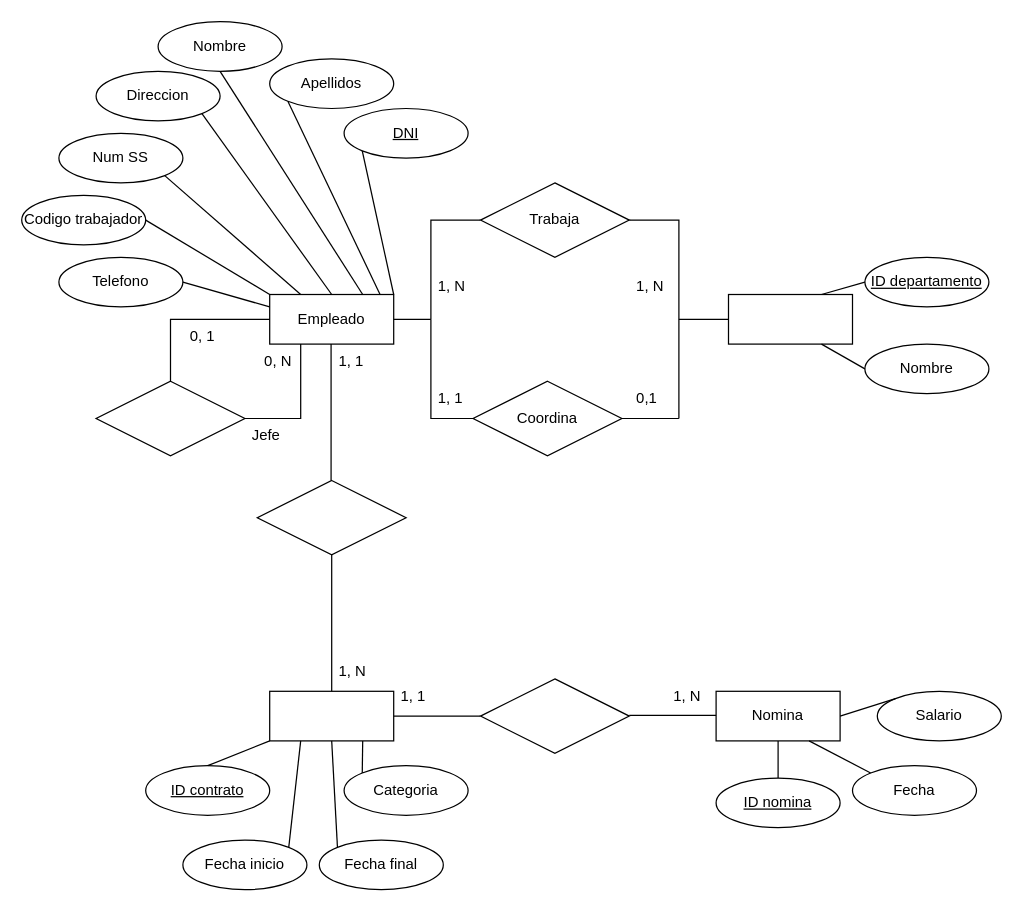
Some shapes in this 1023 by 911 pixel diagram are drawn without their labels. Each missing label, with the box of its shape:
Contrato: (268, 690, 394, 741)
Departamento: (727, 293, 852, 344)
Firma: (256, 479, 406, 555)
Genera: (479, 678, 629, 753)
Responsabiliza: (95, 380, 245, 456)
